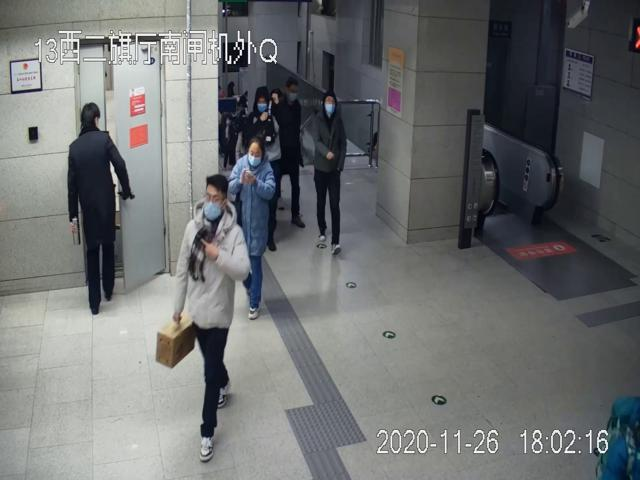person: (174, 170, 251, 464), (68, 101, 134, 316), (230, 137, 277, 326), (310, 87, 348, 263)
